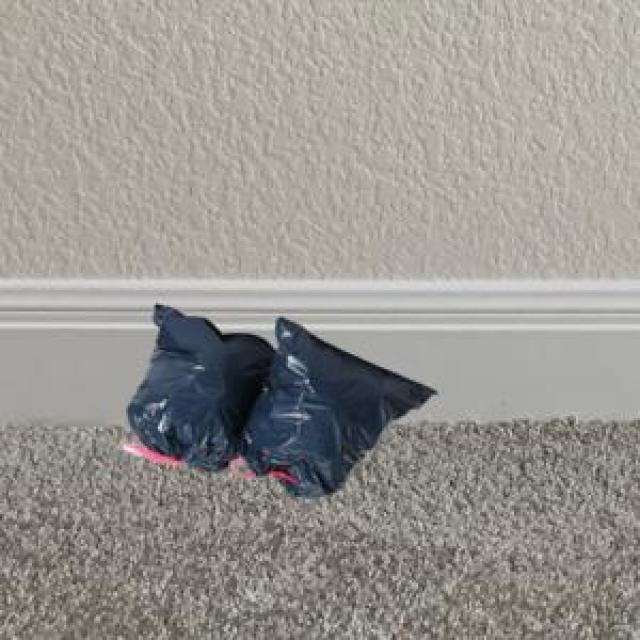Vinyl: (128, 305, 435, 497)
